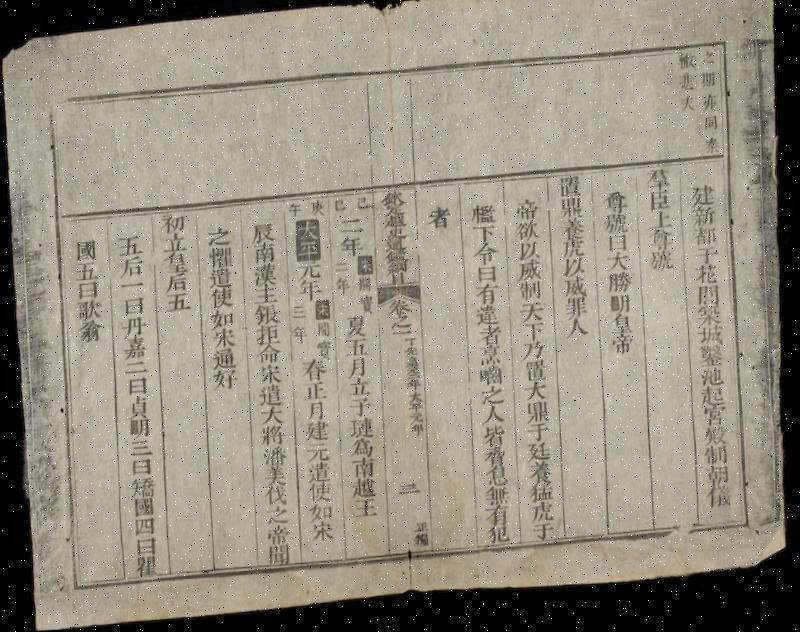c: (292, 222, 324, 266), (702, 487, 734, 514), (297, 358, 330, 384), (424, 206, 452, 234), (72, 273, 101, 300), (687, 186, 717, 212), (643, 170, 673, 196), (156, 212, 188, 236), (378, 190, 407, 216), (600, 192, 629, 218), (114, 232, 143, 258), (120, 336, 149, 362), (696, 348, 726, 373), (560, 300, 590, 325), (522, 402, 552, 427), (160, 232, 188, 258), (117, 255, 146, 280), (645, 230, 675, 254), (380, 230, 410, 254), (482, 486, 512, 510), (694, 309, 724, 333), (336, 236, 366, 260), (526, 504, 556, 528), (250, 304, 280, 328), (209, 369, 239, 393), (204, 246, 234, 270), (554, 178, 584, 202), (248, 222, 278, 246), (301, 422, 331, 446), (128, 476, 158, 500), (525, 484, 556, 507), (688, 229, 719, 252), (161, 252, 190, 276), (350, 498, 379, 522), (525, 464, 554, 488), (693, 288, 722, 312), (646, 254, 675, 278), (307, 521, 336, 545), (604, 274, 633, 298), (346, 416, 375, 440), (468, 204, 497, 228), (74, 320, 103, 344), (304, 480, 334, 503), (206, 288, 236, 311), (257, 425, 287, 448), (73, 299, 103, 322), (476, 387, 507, 409), (480, 426, 507, 451), (512, 200, 539, 225), (72, 260, 100, 284), (382, 252, 410, 276), (700, 408, 728, 432), (694, 330, 726, 351), (132, 554, 160, 578), (250, 264, 278, 288), (471, 244, 499, 268), (264, 544, 292, 568), (304, 461, 333, 484), (204, 225, 233, 248), (556, 201, 585, 224), (255, 364, 284, 387), (119, 315, 148, 338), (259, 446, 288, 469), (299, 382, 329, 404), (702, 468, 732, 490), (698, 390, 728, 412), (691, 268, 721, 290), (514, 262, 544, 284), (687, 210, 717, 232), (72, 237, 98, 262), (342, 316, 368, 341), (260, 465, 288, 488), (261, 485, 289, 508), (562, 321, 590, 344), (210, 348, 238, 371), (601, 216, 629, 239), (256, 385, 284, 408), (520, 363, 548, 386), (483, 526, 512, 548), (348, 478, 377, 500), (474, 348, 503, 370), (697, 370, 726, 392), (701, 448, 730, 470), (206, 268, 235, 290), (516, 304, 545, 326), (253, 325, 282, 347), (163, 292, 192, 314), (474, 368, 504, 389), (125, 395, 151, 419), (608, 316, 634, 340), (700, 428, 728, 450), (608, 338, 636, 360), (127, 456, 155, 478), (123, 375, 151, 397), (347, 438, 375, 460), (348, 458, 376, 480), (130, 496, 158, 518), (559, 260, 587, 282), (512, 223, 540, 245), (473, 308, 501, 330), (472, 286, 500, 308), (516, 282, 544, 304), (645, 194, 673, 216), (208, 309, 236, 331), (296, 280, 324, 302), (264, 524, 292, 546), (560, 280, 588, 302), (558, 222, 586, 244), (482, 507, 511, 528), (254, 345, 283, 366), (336, 218, 366, 238), (302, 444, 332, 464), (250, 286, 280, 306), (294, 242, 320, 265), (346, 397, 373, 419), (476, 328, 503, 350), (514, 243, 541, 265), (518, 325, 546, 346), (478, 407, 506, 428), (524, 444, 552, 465), (603, 255, 631, 276), (209, 329, 237, 350), (342, 339, 370, 360), (294, 262, 322, 283), (306, 503, 335, 523), (523, 426, 552, 446), (691, 250, 720, 270), (520, 384, 549, 404), (257, 406, 286, 426), (345, 358, 370, 381), (481, 448, 507, 470), (132, 516, 158, 538), (126, 417, 152, 439), (520, 342, 546, 364), (606, 296, 632, 318), (250, 244, 276, 266), (120, 295, 146, 317), (302, 401, 329, 422), (345, 379, 372, 400), (127, 438, 154, 459), (646, 214, 674, 234), (163, 274, 191, 294), (558, 242, 586, 262), (262, 507, 290, 527), (385, 300, 413, 320), (380, 213, 409, 232), (133, 536, 158, 558), (483, 467, 509, 488), (470, 226, 497, 246), (394, 481, 422, 500), (528, 525, 556, 544), (474, 268, 500, 288), (603, 237, 629, 256), (121, 360, 150, 377), (354, 256, 374, 280), (698, 97, 720, 118), (675, 75, 696, 97), (312, 300, 332, 323), (386, 318, 416, 333), (675, 54, 697, 74), (118, 279, 146, 294), (697, 74, 718, 94), (676, 98, 697, 118), (332, 277, 352, 298), (290, 325, 309, 347), (702, 140, 722, 160), (356, 296, 374, 318), (314, 340, 332, 362), (700, 118, 720, 137), (308, 199, 326, 220), (286, 202, 305, 221), (290, 304, 308, 324), (331, 197, 349, 216), (353, 196, 371, 215), (698, 53, 716, 72), (356, 278, 374, 296), (314, 322, 332, 340), (384, 274, 410, 286), (402, 363, 420, 380), (411, 534, 430, 550), (403, 379, 422, 394), (412, 521, 430, 536), (407, 413, 424, 427), (404, 393, 422, 406), (408, 425, 424, 439), (334, 262, 350, 276), (401, 347, 418, 360), (402, 339, 418, 349), (390, 332, 412, 339), (406, 406, 422, 414)
